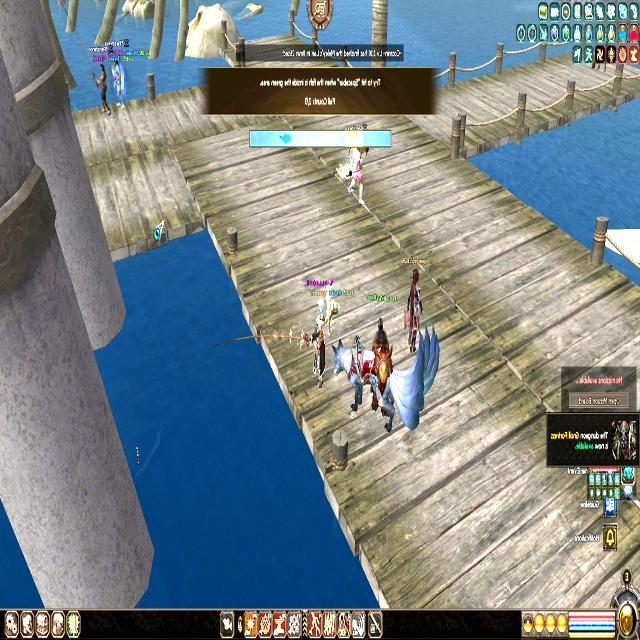box: (345, 132, 363, 146)
fishes: (279, 132, 292, 144)
